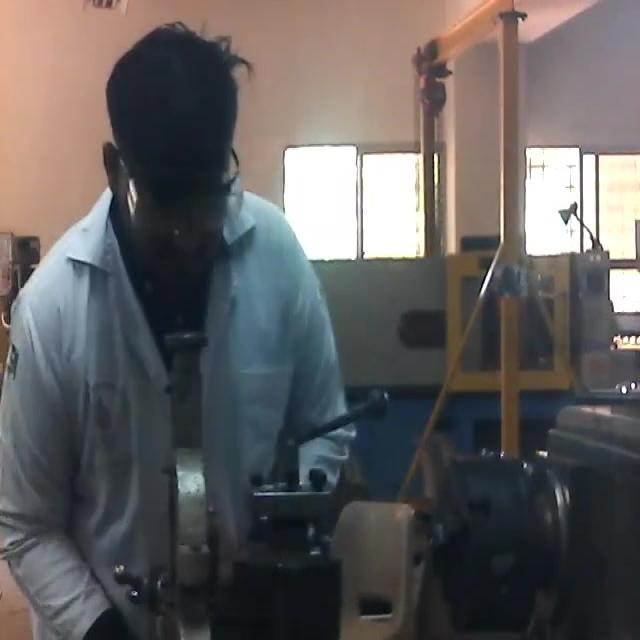googles: (122, 172, 242, 236)
labcoat: (4, 187, 356, 638)
